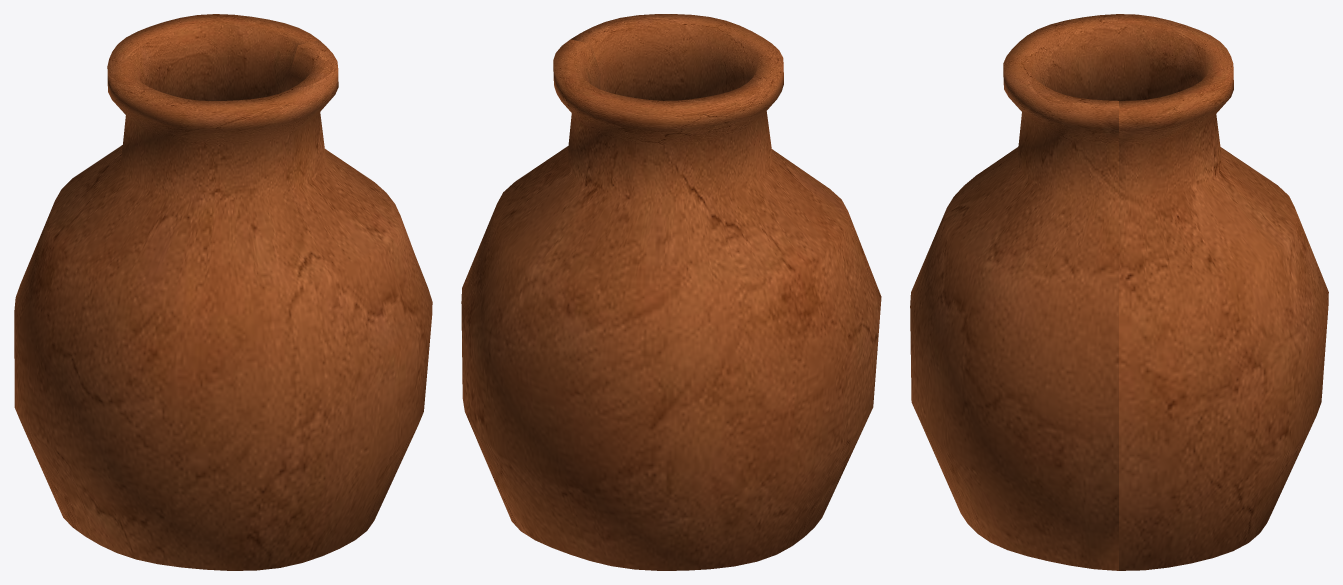
The model's file is prop_kolshi.glb.
The picture shows the model from 3 angles, left to right: view 1: azimuth 30°, elevation 25°; view 2: azimuth 150°, elevation 25°; view 3: azimuth 270°, elevation 25°; orthographic projection.
Visible parts, largest first — view 1: prop_kolshi; view 2: prop_kolshi; view 3: prop_kolshi.
Part boxes in pixels (bbox=[...]): prop_kolshi: bbox=[14, 14, 432, 570]; prop_kolshi: bbox=[461, 14, 881, 570]; prop_kolshi: bbox=[910, 14, 1328, 570].
Size of the model in its own units: 0.29 by 0.35 by 0.2903.
1 material, 1 textured.
